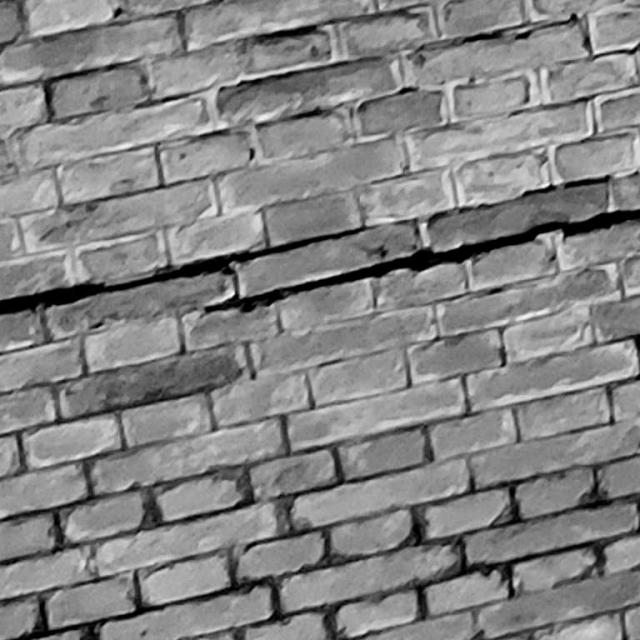crack: (202, 210, 639, 313), (1, 227, 363, 315), (522, 173, 610, 194)
